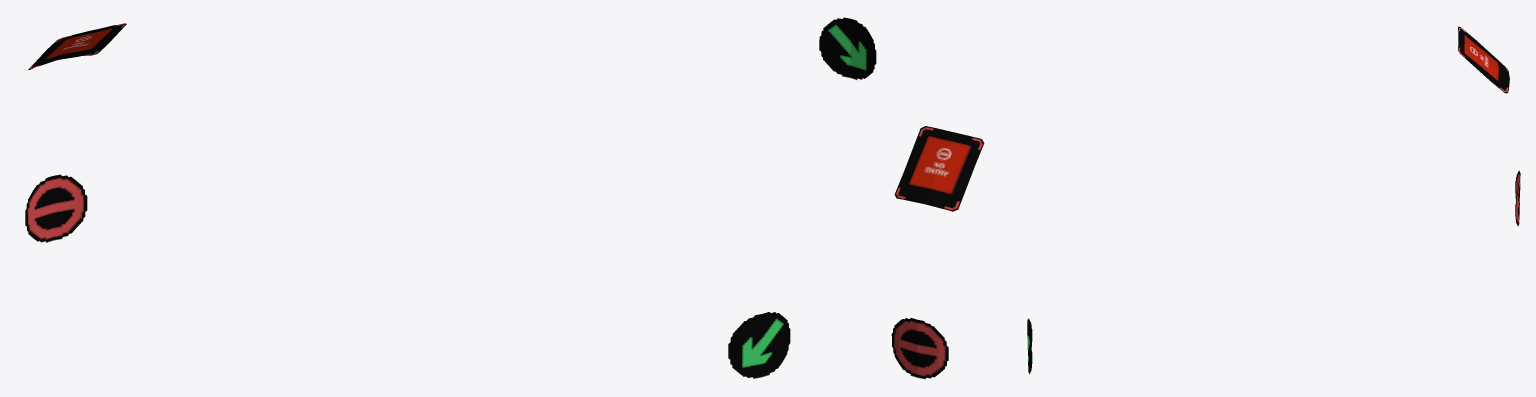
File: nyc_subway_fare_gate_7_exit_closed_light_layer.obj
The picture shows the model from 3 angles, left to right: view 1: azimuth 30°, elevation 25°; view 2: azimuth 150°, elevation 25°; view 3: azimuth 270°, elevation 25°; orthographic projection. The views are drawn at different scales.
Visible parts, largest first — view 1: light, card_reader; view 2: light, card_reader; view 3: card_reader, light.
Part boxes in pixels (box(x1,y1,x2,y2)): light: box(25, 174, 790, 378); card_reader: box(28, 23, 126, 69); light: box(819, 17, 948, 379); card_reader: box(894, 126, 984, 211); card_reader: box(1458, 26, 1509, 93); light: box(1027, 170, 1520, 374).
Size of the model in its own units: 1.19 by 0.6105 by 1.42.
1 material, 1 textured.
